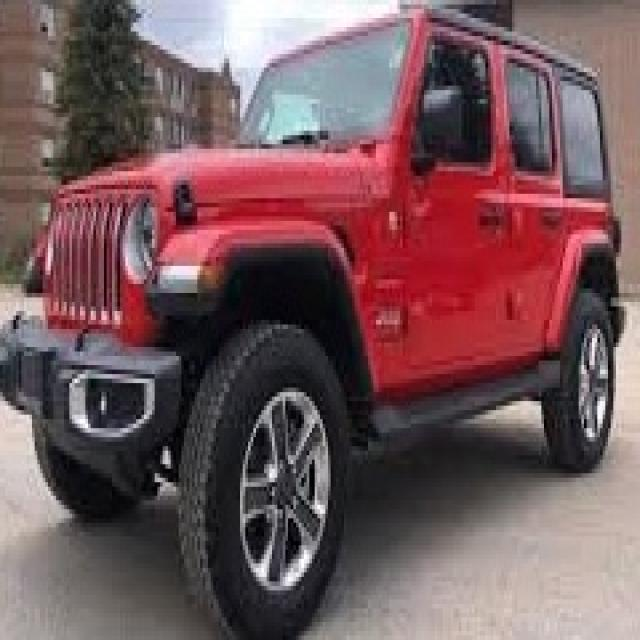red: (1, 7, 622, 508)
